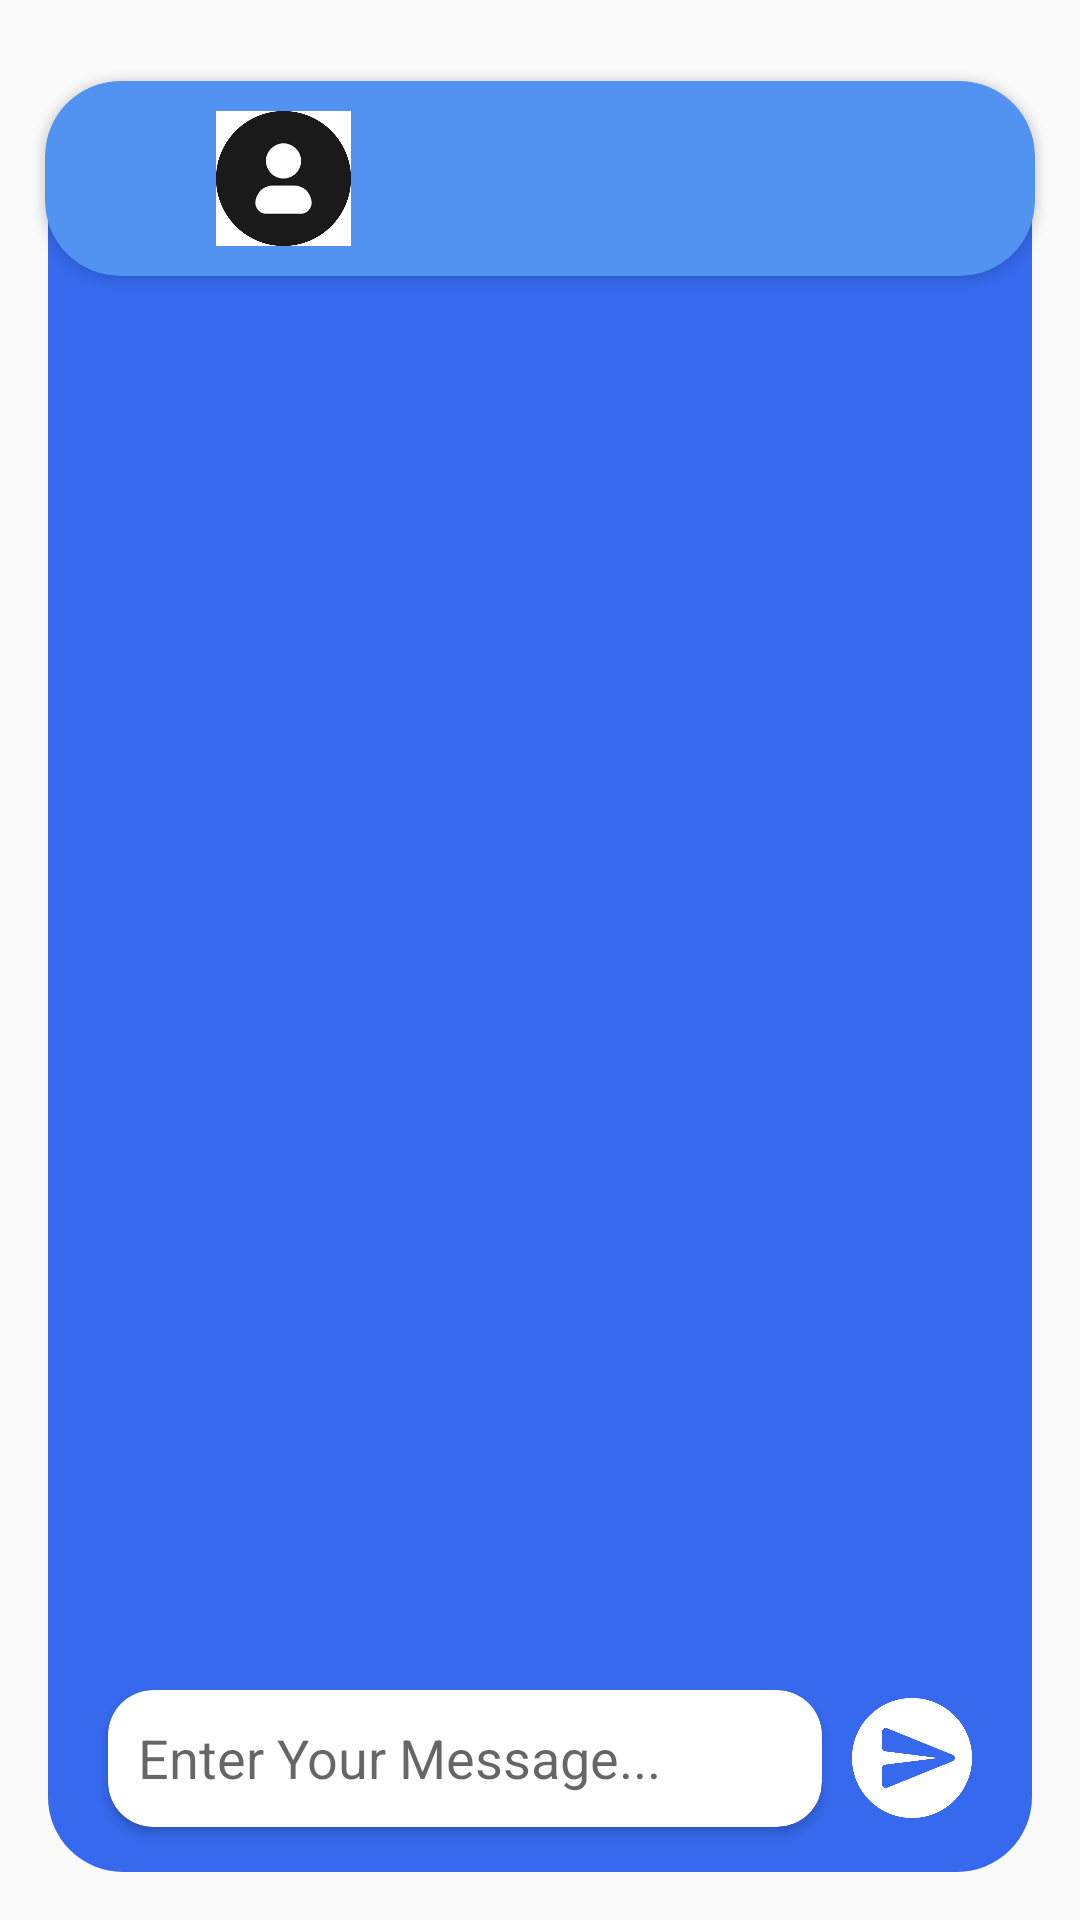

Icons on this 1080 × 1920 Android screen, each with the point to tap as (x,y):
msg sender: (283,178)
send: (912,1758)
